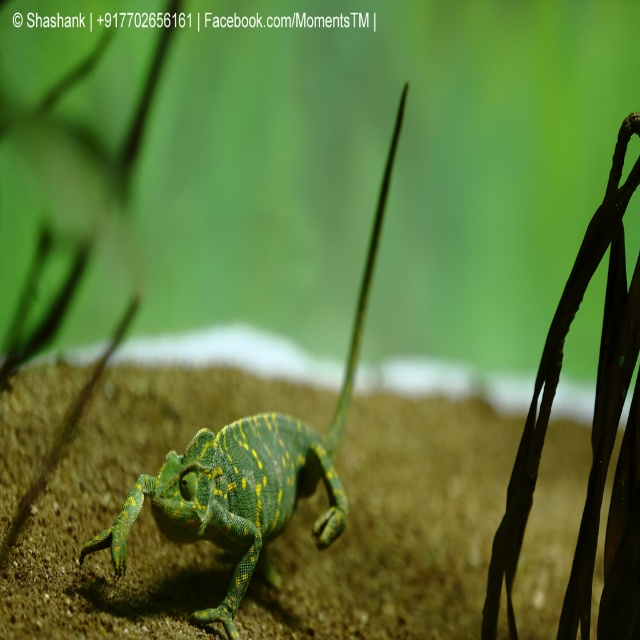Lizard: (75, 408, 357, 628)
